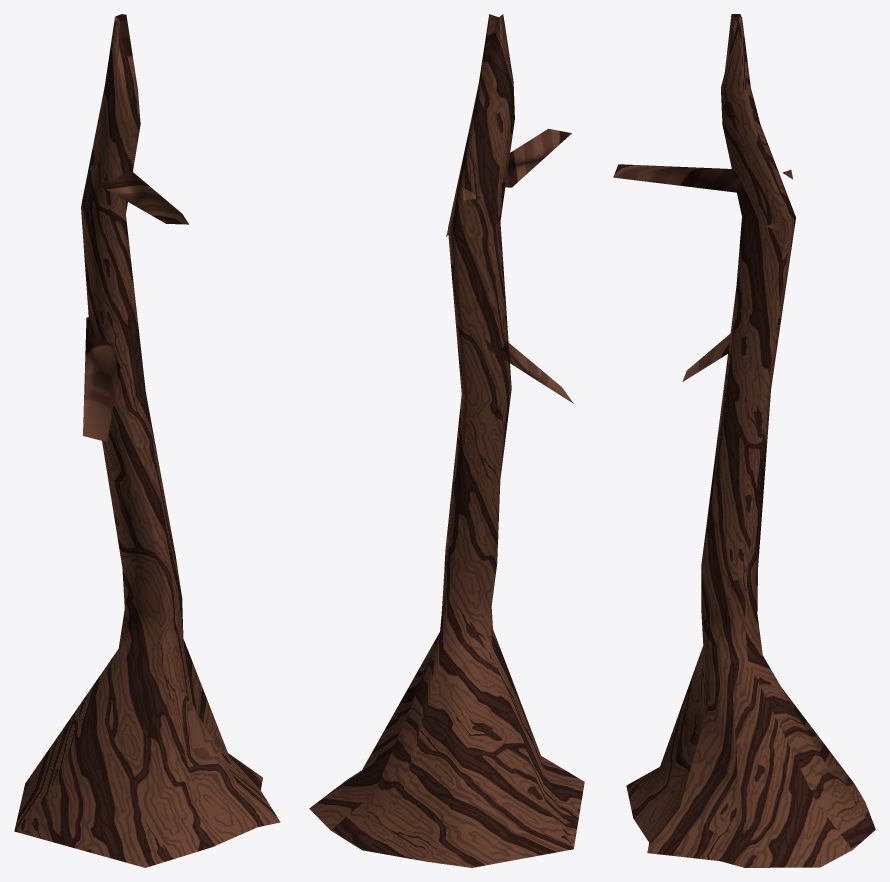
The model's file is Low tree 2.fbx.
The picture shows the model from 3 angles, left to right: view 1: azimuth 30°, elevation 25°; view 2: azimuth 150°, elevation 25°; view 3: azimuth 270°, elevation 25°; orthographic projection. The views are drawn at different scales.
Parts seen in each view (by area): view 1: Pines_2; view 2: Pines_2; view 3: Pines_2.
Part boxes in pixels (<box>): Pines_2: <box>14,14,280,867</box>; Pines_2: <box>309,14,584,867</box>; Pines_2: <box>613,14,875,867</box>.
Size of the model in its own units: 5.14 by 16.57 by 5.02.
